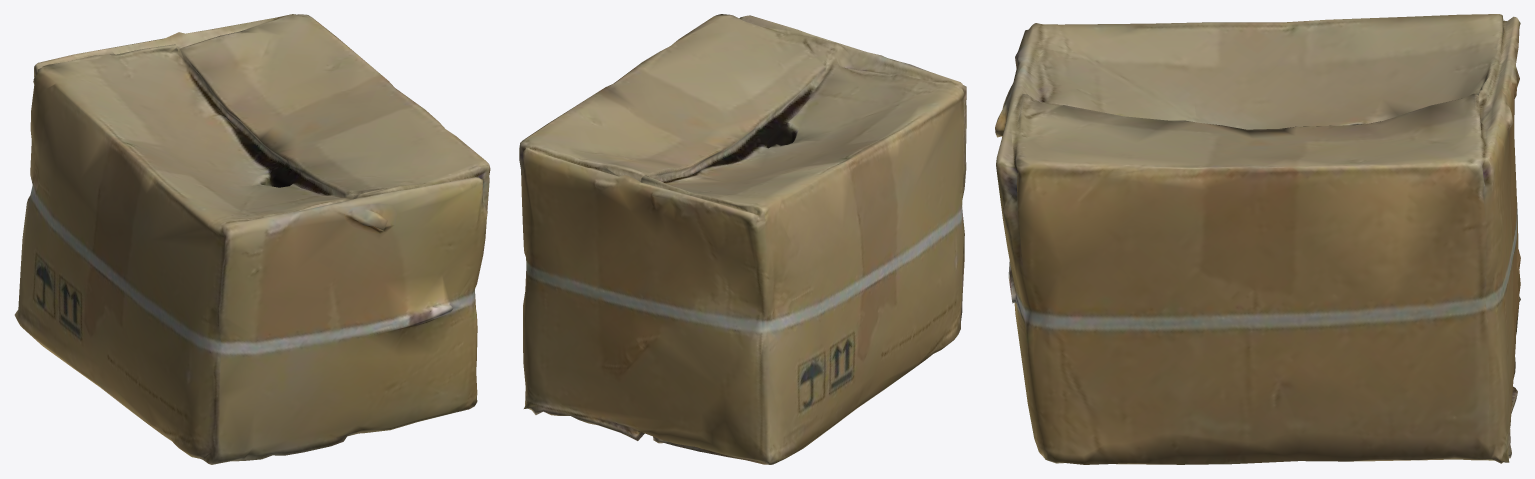
File: cardboard_box_01.glb
3 views of the same model, side by side, from view 1: azimuth 30°, elevation 25°; view 2: azimuth 150°, elevation 25°; view 3: azimuth 270°, elevation 25° (orthographic). The views are drawn at different scales.
Visible parts, largest first — view 1: cardboard_box_01; view 2: cardboard_box_01; view 3: cardboard_box_01.
Part boxes in pixels (x1,y1,x2,y2): cardboard_box_01: (14, 14, 490, 464); cardboard_box_01: (519, 14, 966, 464); cardboard_box_01: (995, 14, 1520, 464).
Size of the model in its own units: 0.3867 by 0.3418 by 0.5159.
Materials: 1 (1 with a texture image).
